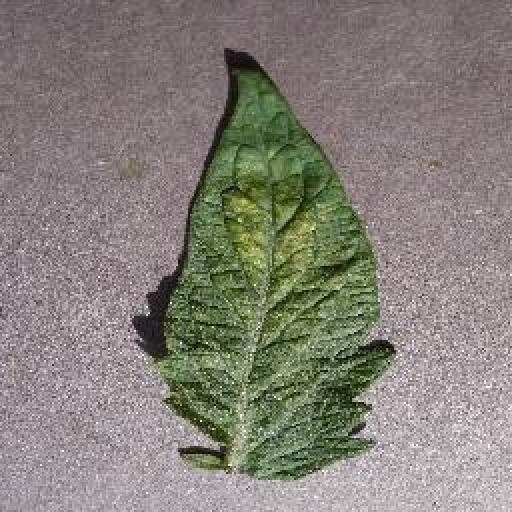Spider Mites: (154, 63, 398, 481)
